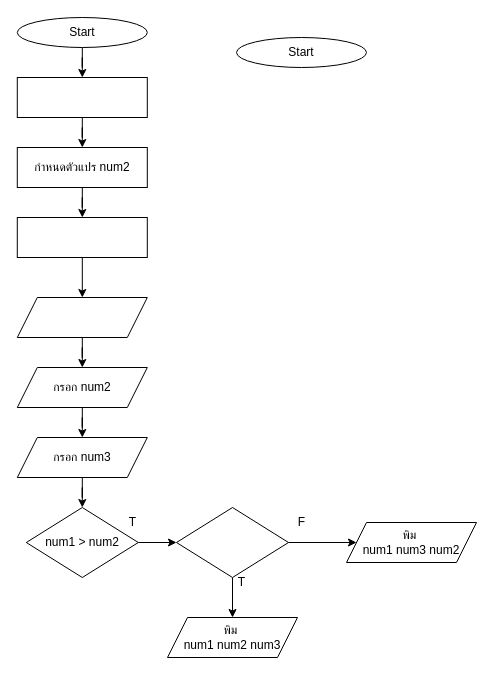
This 495x675 diagram has some shape labels left out. Each missing label, with the centre of its shape:
"num2 > num3" belongs at (232,542).
"กรอก num1" belongs at (81,317).
"กำหนดตัวแปร num1" belongs at (81,97).
"กำหนดตัวแปร num3" belongs at (81,237).
